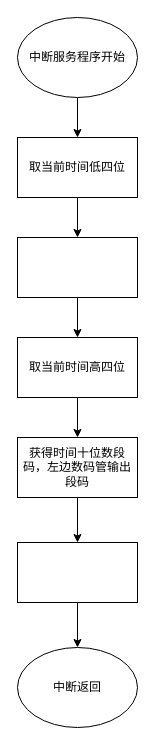
Some shapes in this 155 by 745 pixel diagram are drawn without their labels. Here are the shapes that lost their labels. From the top down, the centre of each, then its label:
At pixel 77 267: "获得时间个位数段码，右边数码管输出段码".
At pixel 77 572: "中断结束".
